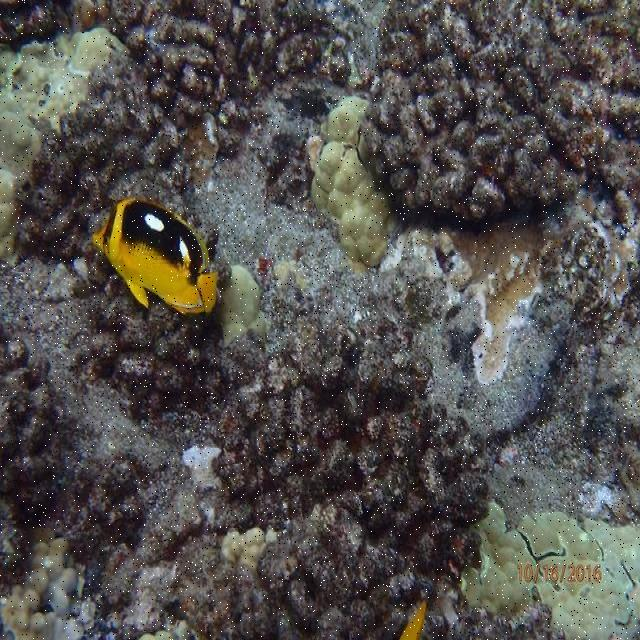fish: (94, 198, 223, 317)
reefs: (162, 316, 495, 639), (1, 1, 355, 269), (361, 3, 639, 225), (86, 180, 269, 416), (4, 330, 66, 583), (57, 459, 147, 565)
